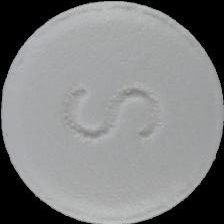70786-0360: (0, 0, 224, 224)
